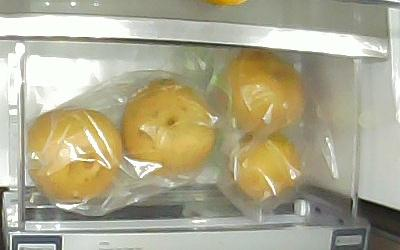pear_vinyl: (119, 79, 216, 177), (28, 109, 120, 204), (220, 51, 309, 133), (225, 132, 299, 201)
